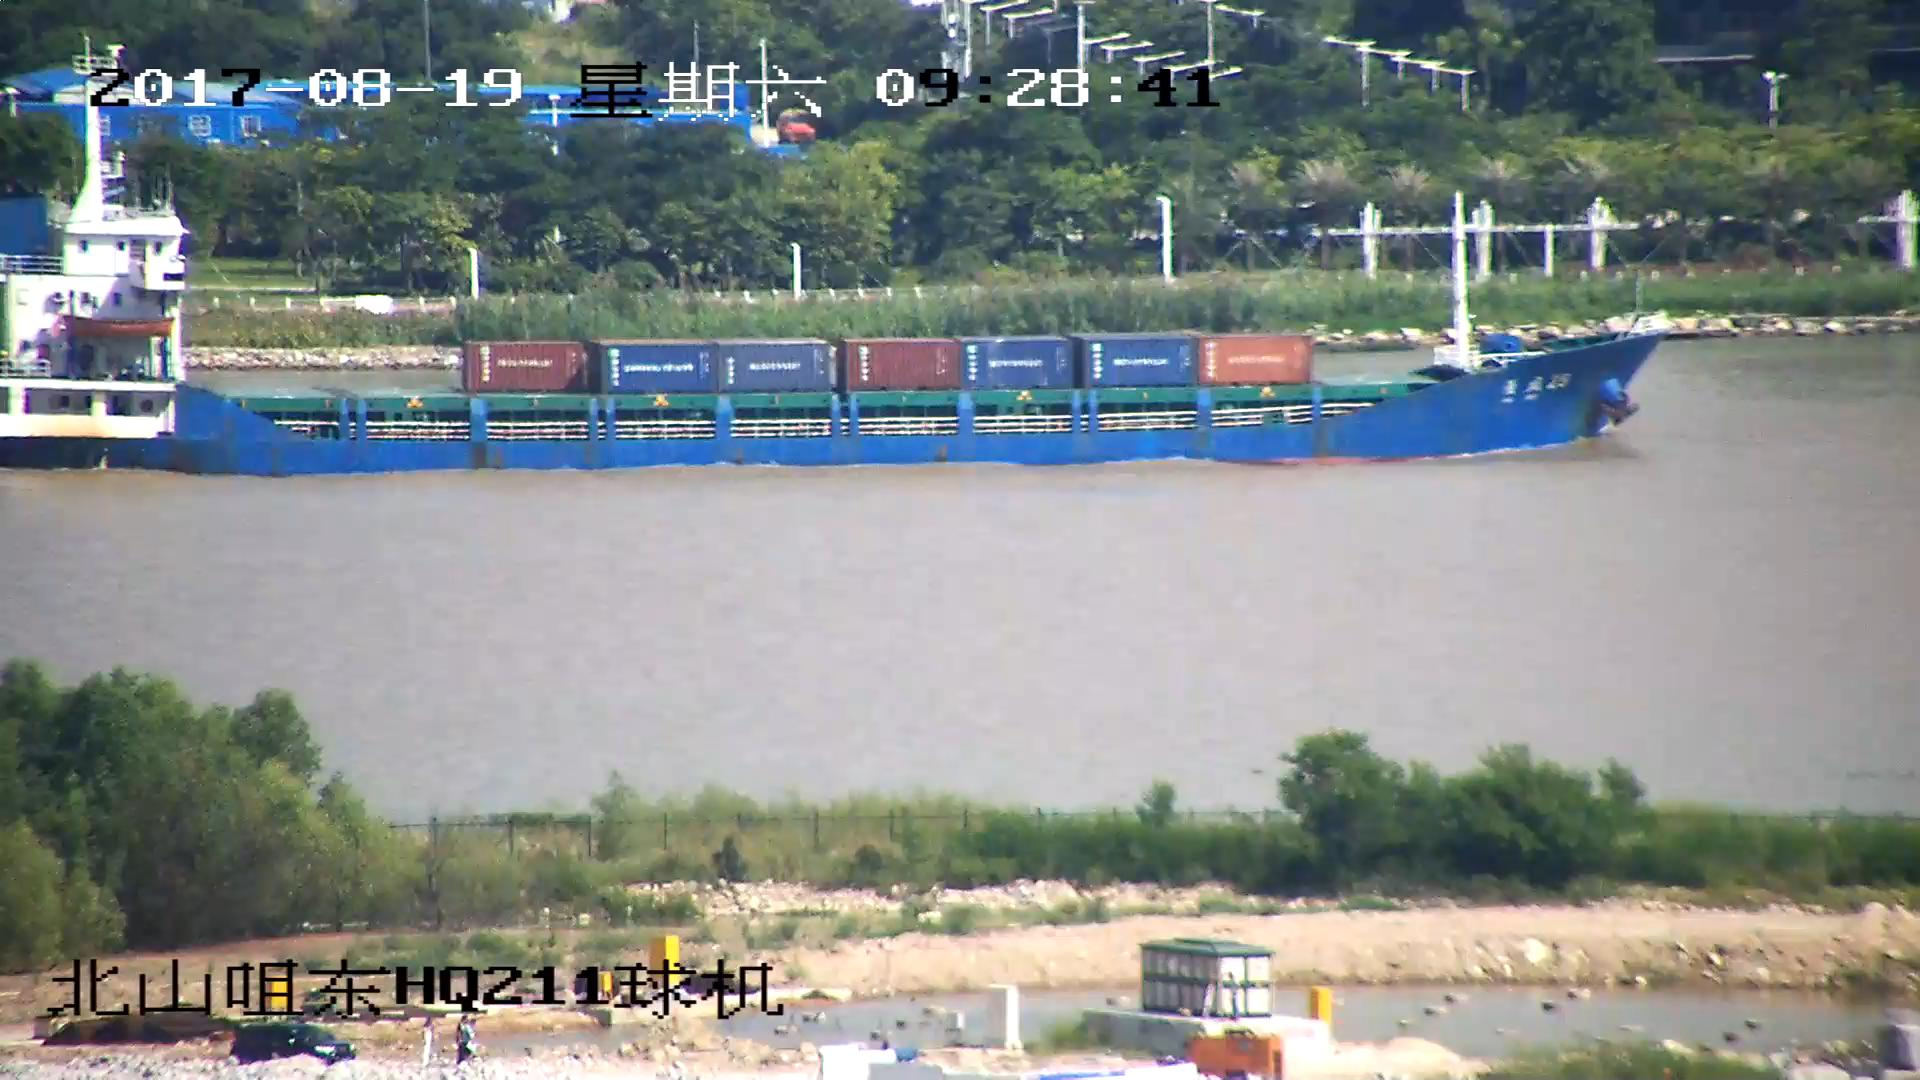general cargo ship: (1, 105, 1669, 473)
